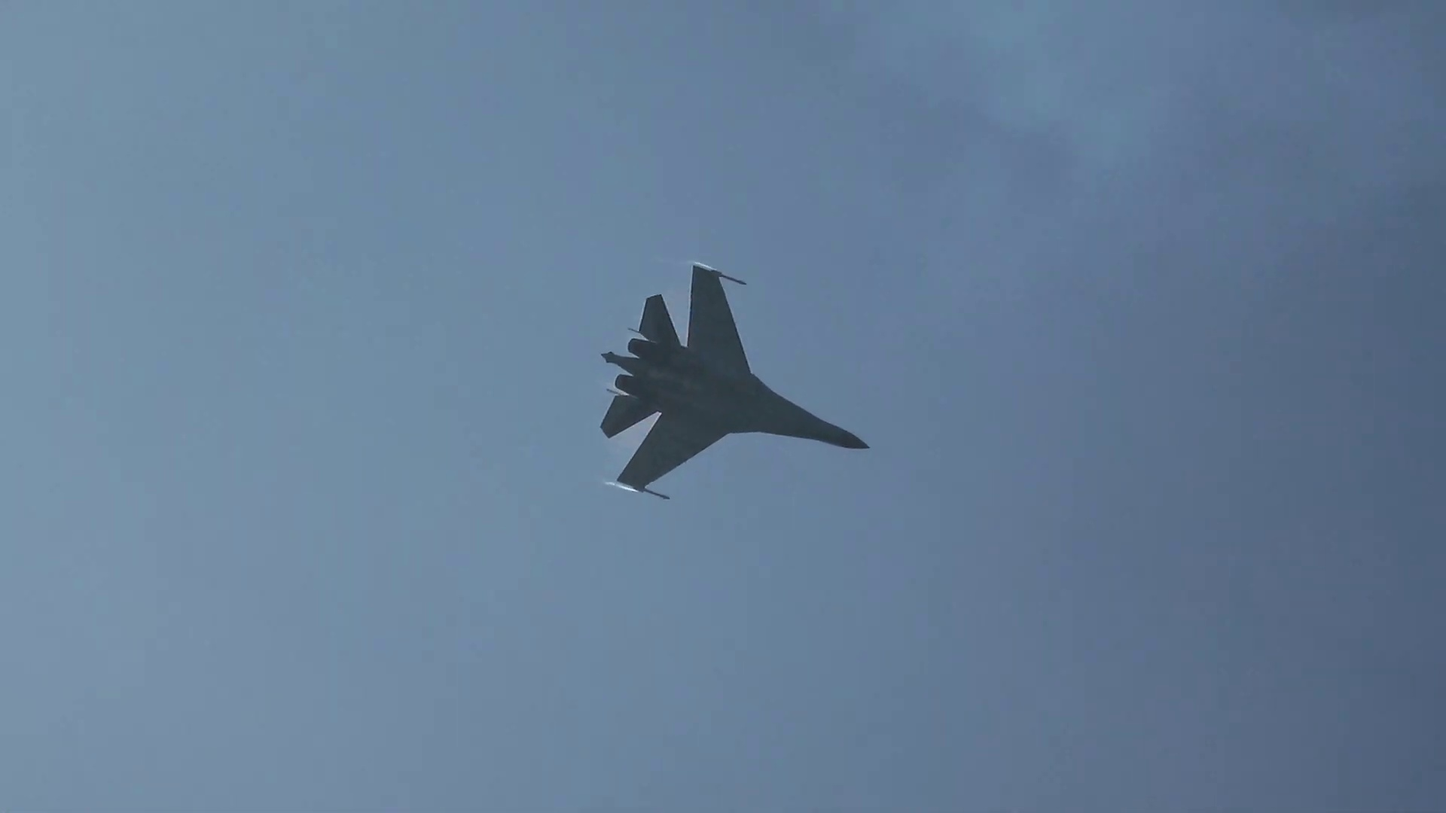Su35: (600, 264, 870, 500)
